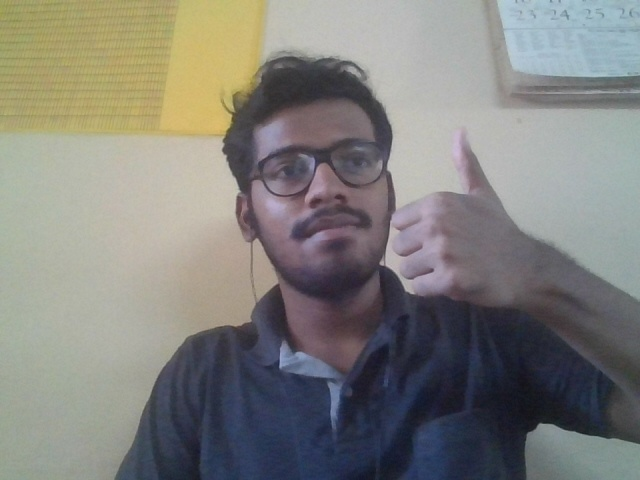ThumbsUp: (391, 124, 528, 309)
